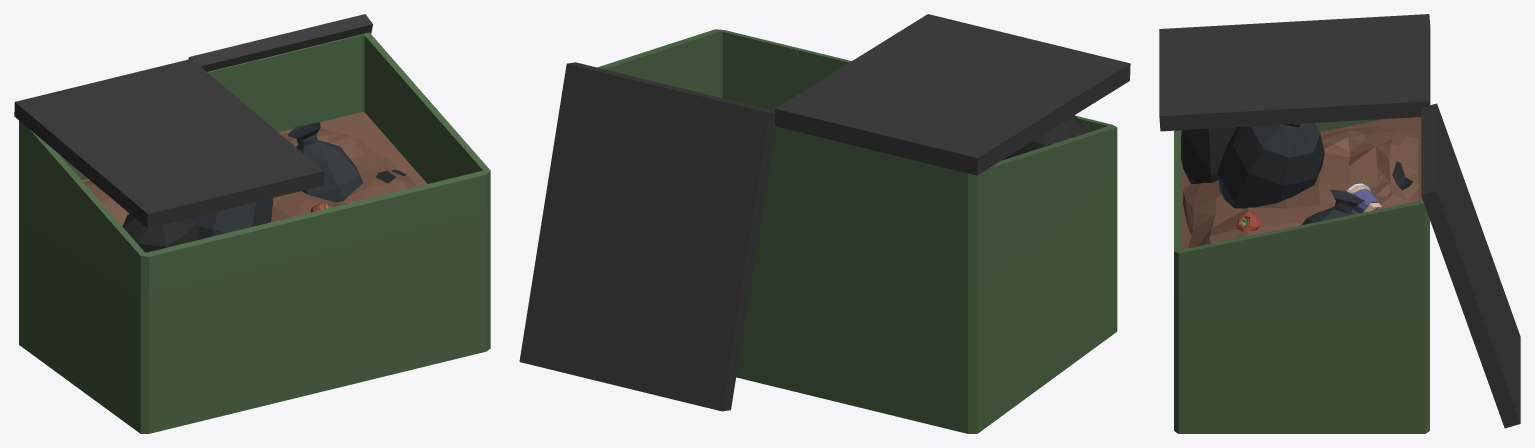
Rendered from SM_Props_Trash_02.glb.
The picture shows the model from 3 angles, left to right: view 1: azimuth 30°, elevation 25°; view 2: azimuth 150°, elevation 25°; view 3: azimuth 270°, elevation 25°; orthographic projection. The views are drawn at different scales.
Parts seen in each view (by area): view 1: SM_Props_Trash_02; view 2: SM_Props_Trash_02; view 3: SM_Props_Trash_02.
Part boxes in pixels (x1,y1,x2,y2): SM_Props_Trash_02: [14, 14, 490, 433]; SM_Props_Trash_02: [519, 14, 1130, 433]; SM_Props_Trash_02: [1159, 14, 1520, 433].
Size of the model in its own units: 1.62 by 1.06 by 1.41.
1 material, 1 textured.
